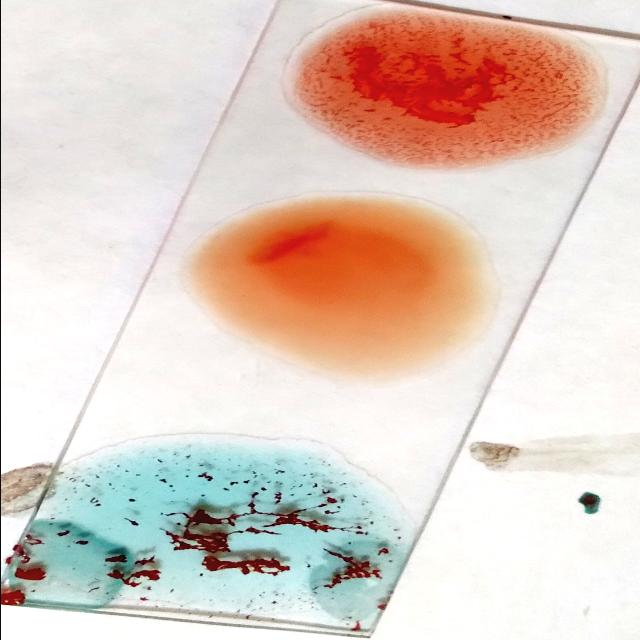A: (51, 450, 395, 610)
D: (281, 27, 584, 158)
